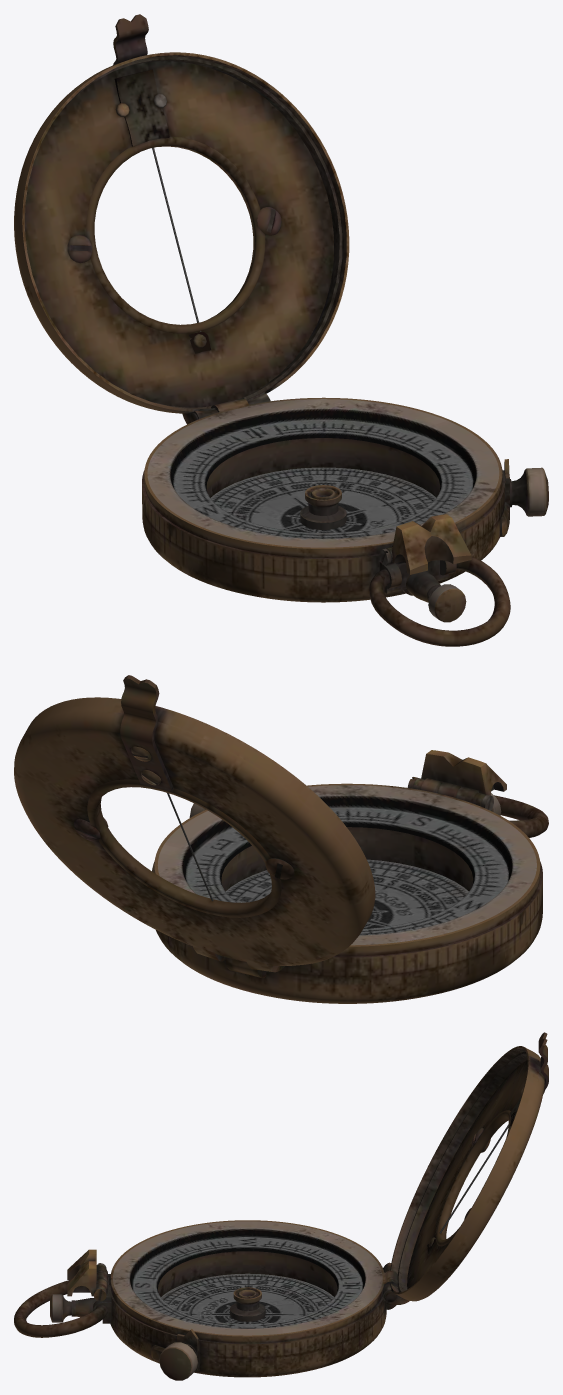
The model's file is compass.glb.
The picture shows the model from 3 angles, top to bottom: view 1: azimuth 30°, elevation 25°; view 2: azimuth 150°, elevation 25°; view 3: azimuth 270°, elevation 25°; orthographic projection. The views are drawn at different scales.
Parts seen in each view (by area): view 1: seadogs_compass; view 2: seadogs_compass; view 3: seadogs_compass.
Part boxes in pixels (bbox=[...]): seadogs_compass: bbox=[14, 14, 548, 646]; seadogs_compass: bbox=[14, 675, 548, 1003]; seadogs_compass: bbox=[14, 1032, 548, 1380].
Bounding box in the file's own units: 0.0813 × 0.0866 × 0.1441.
2 materials, 2 textured.
